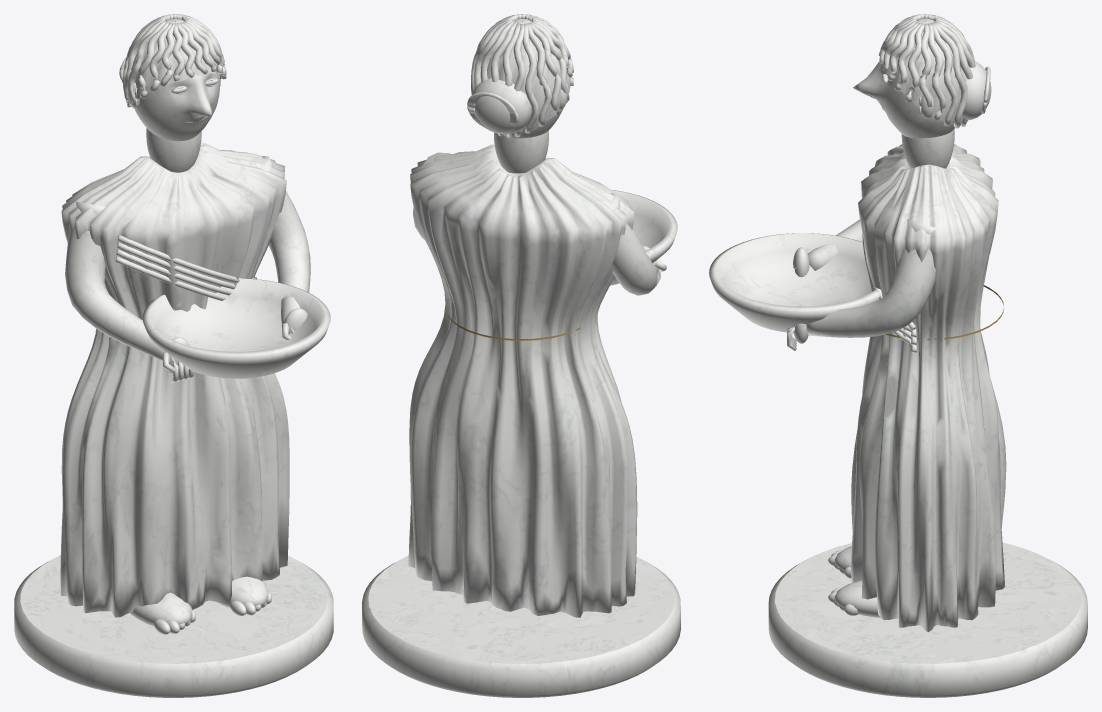
Rendered from standing_woman.glb.
3 renders of one model, left to right at view 1: azimuth 30°, elevation 25°; view 2: azimuth 150°, elevation 25°; view 3: azimuth 270°, elevation 25°, orthographic.
Visible parts, largest first — view 1: 12 Standing Woman; view 2: 12 Standing Woman; view 3: 12 Standing Woman.
Part boxes in pixels (bbox=[...]): 12 Standing Woman: bbox=[14, 14, 333, 697]; 12 Standing Woman: bbox=[362, 14, 680, 697]; 12 Standing Woman: bbox=[709, 14, 1087, 697].
Size of the model in its own units: 1.02 by 2.16 by 1.21.
Materials: 3 (3 with a texture image).
